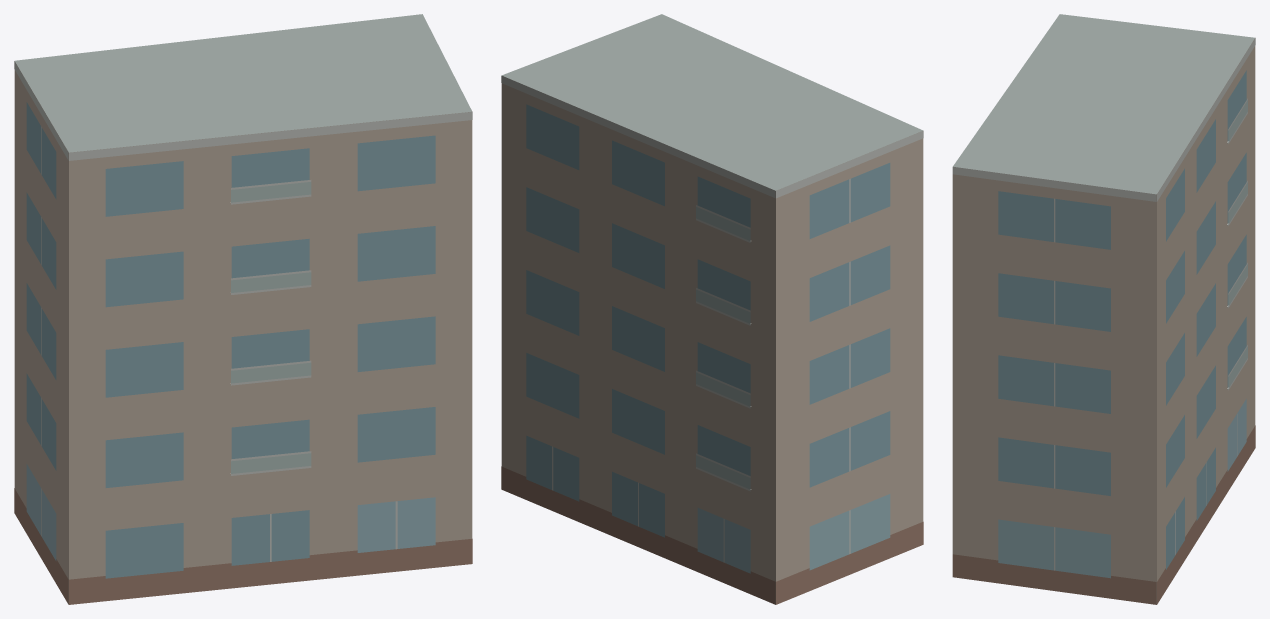
Rendered from survey-upis-32875287.glb.
3 renders of one model, left to right at view 1: azimuth 30°, elevation 25°; view 2: azimuth 150°, elevation 25°; view 3: azimuth 270°, elevation 25°, orthographic. The views are drawn at different scales.
Visible parts, largest first — view 1: survey-upis-32875287.tmp; view 2: survey-upis-32875287.tmp; view 3: survey-upis-32875287.tmp.
Boxes of the visible parts, bbox=[...] form: survey-upis-32875287.tmp: bbox=[14, 14, 472, 604]; survey-upis-32875287.tmp: bbox=[501, 14, 923, 604]; survey-upis-32875287.tmp: bbox=[952, 14, 1255, 604].
Bounding box in the file's own units: 12.45 × 13.2 × 8.83.
